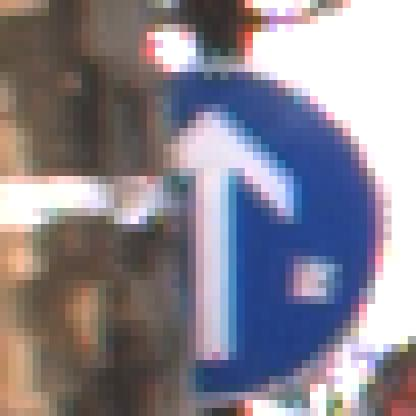AheadOnly: (50, 49, 376, 377)
